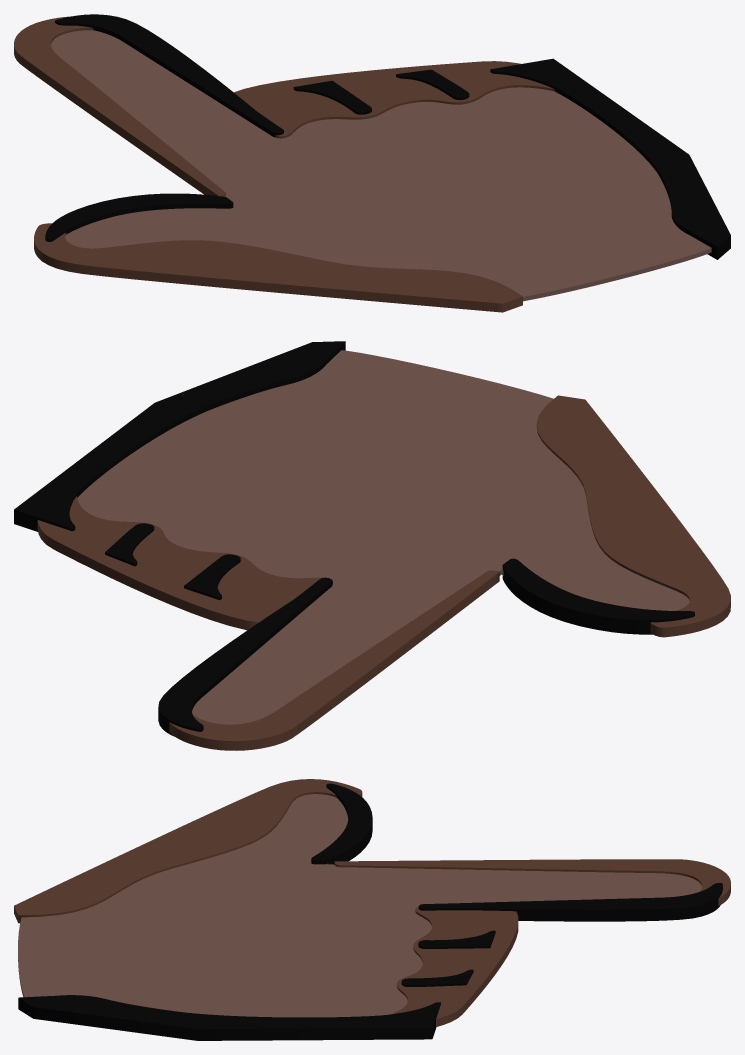
File: emoji_u1f446_1f3ff.glb
The picture shows the model from 3 angles, top to bottom: view 1: azimuth 30°, elevation 25°; view 2: azimuth 150°, elevation 25°; view 3: azimuth 270°, elevation 25°; orthographic projection. The views are drawn at different scales.
Parts seen in each view (by area): view 1: emoji_u1f446_1f3ff; view 2: emoji_u1f446_1f3ff; view 3: emoji_u1f446_1f3ff.
Boxes of the visible parts, bbox=[...] form: emoji_u1f446_1f3ff: bbox=[14, 14, 730, 312]; emoji_u1f446_1f3ff: bbox=[14, 341, 730, 750]; emoji_u1f446_1f3ff: bbox=[14, 779, 730, 1040].
Size of the model in its own units: 0.0276 by 0.0006 by 0.0331.
